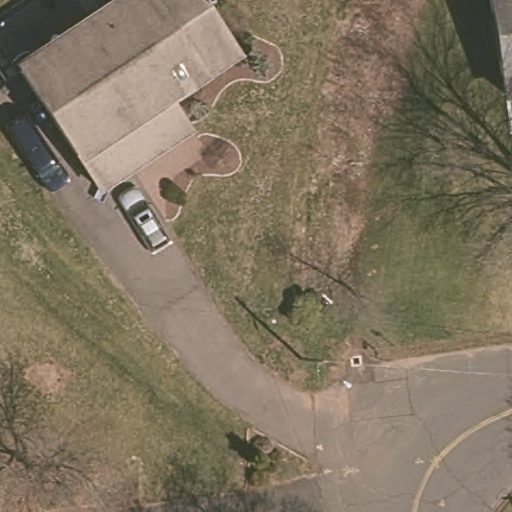DT: (301, 354, 341, 377)
